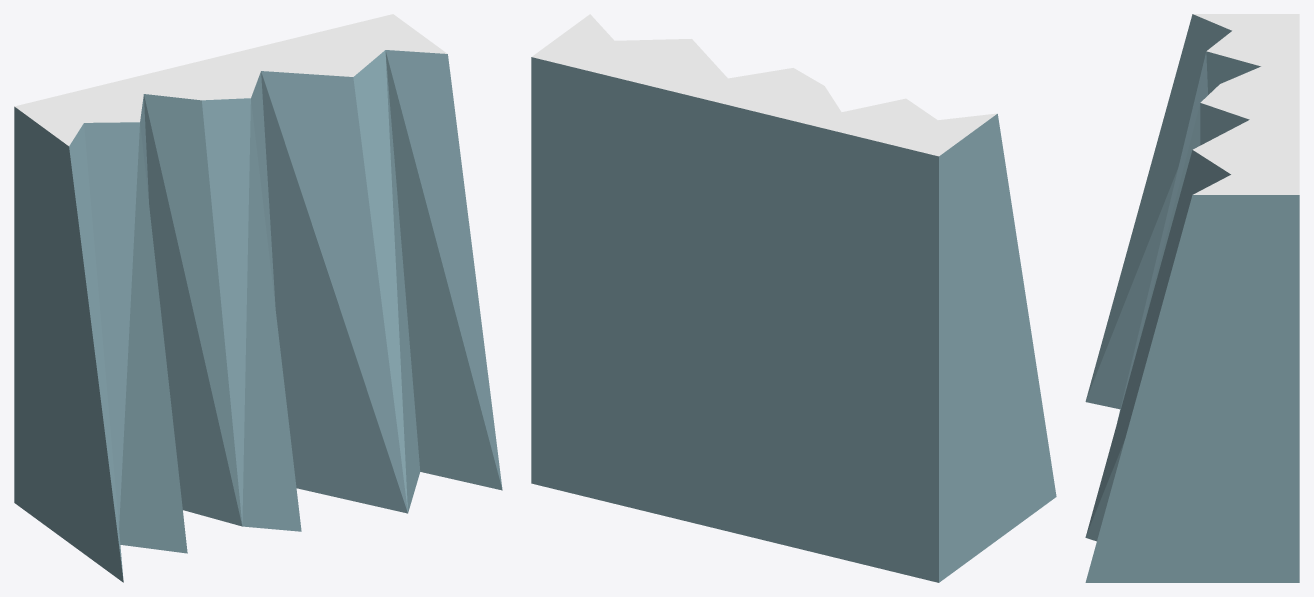
The model's file is Terrain_Tile_Ice_Snow_Cliff_Face_Angled_01.fbx.
The picture shows the model from 3 angles, left to right: view 1: azimuth 30°, elevation 25°; view 2: azimuth 150°, elevation 25°; view 3: azimuth 270°, elevation 25°; orthographic projection. The views are drawn at different scales.
Parts seen in each view (by area): view 1: Terrain_Tile_Ice_Snow_Cliff_Face_Angled_01; view 2: Terrain_Tile_Ice_Snow_Cliff_Face_Angled_01; view 3: Terrain_Tile_Ice_Snow_Cliff_Face_Angled_01.
Boxes of the visible parts, x1,y1,x2,y2 form: Terrain_Tile_Ice_Snow_Cliff_Face_Angled_01: [14, 14, 502, 582]; Terrain_Tile_Ice_Snow_Cliff_Face_Angled_01: [531, 14, 1056, 582]; Terrain_Tile_Ice_Snow_Cliff_Face_Angled_01: [1085, 14, 1299, 582].
Size of the model in its own units: 126 by 126 by 62.99.
